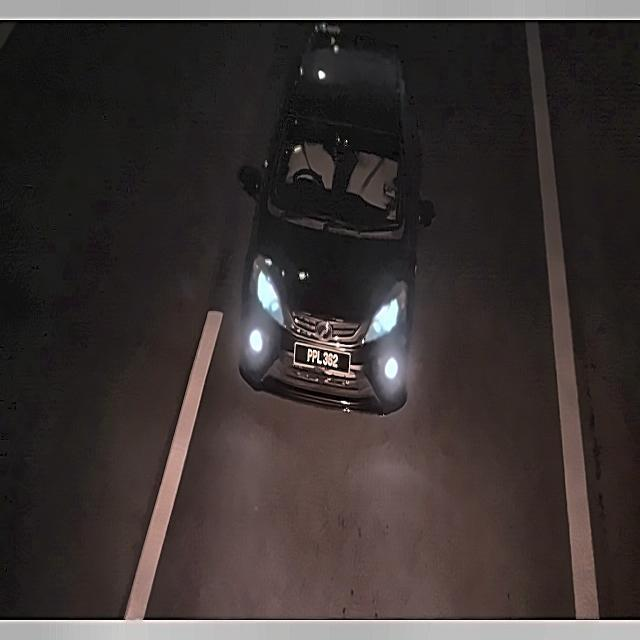car: (291, 335, 354, 385)
